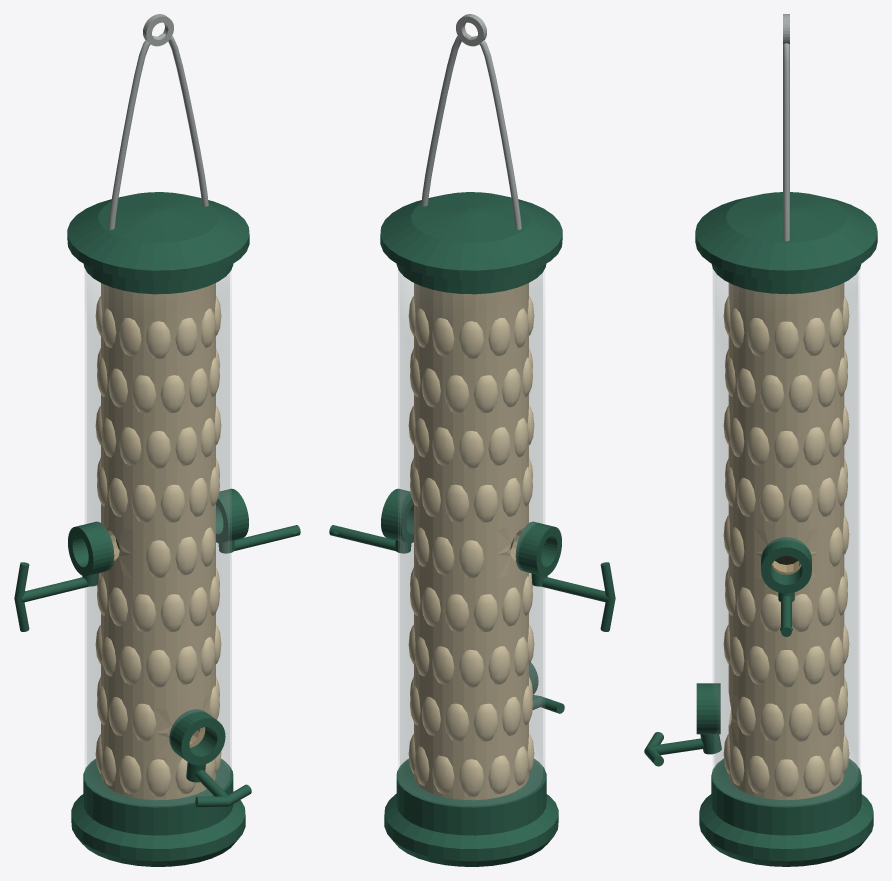
Rendered from A-NEW-20261026-CYLINDER-BIRD-FEEDER-001_LOD1_R4.fbx.
3 views of the same model, side by side, from view 1: azimuth 30°, elevation 25°; view 2: azimuth 150°, elevation 25°; view 3: azimuth 270°, elevation 25° (orthographic).
Visible parts, largest first — view 1: reservoir tube, simplified internal seed volume, domed top cap, lower green cup, front open feed collar, left open feed collar, right open feed collar, left bail leg, right bail leg, embedded seed 08 08, embedded seed 06 08, embedded seed 02 08 (+29 smaller); view 2: reservoir tube, simplified internal seed volume, domed top cap, lower green cup, left open feed collar, right open feed collar, left bail leg, right bail leg, embedded seed 08 04, embedded seed 06 04, embedded seed 02 04, embedded seed 04 04 (+30 smaller); view 3: reservoir tube, simplified internal seed volume, domed top cap, lower green cup, right open feed collar, right bail leg, front open feed collar, embedded seed 00 00, embedded seed 02 00, embedded seed 06 00, embedded seed 08 00, embedded seed 01 00 (+24 smaller).
Boxes of the visible parts, x1,y1,x2,y2 form: reservoir tube: (85,270,231,805); simplified internal seed volume: (101,283,215,800); domed top cap: (67,192,249,294); lower green cup: (71,759,245,866); front open feed collar: (169,709,225,765); left open feed collar: (68,521,114,576); right open feed collar: (216,488,248,543); left bail leg: (108,36,159,229); right bail leg: (158,33,208,206); embedded seed 08 08: (145,321,171,359); embedded seed 06 08: (145,431,171,468); embedded seed 02 08: (145,649,171,687); reservoir tube: (398,270,544,805); simplified internal seed volume: (414,283,528,800); domed top cap: (380,192,562,294); lower green cup: (384,759,558,866); left open feed collar: (515,521,561,576); right open feed collar: (381,488,413,543); left bail leg: (470,36,521,229); right bail leg: (421,33,471,206); embedded seed 08 04: (458,321,484,359); embedded seed 06 04: (458,431,484,468); embedded seed 02 04: (458,649,484,687); embedded seed 04 04: (458,540,484,578); reservoir tube: (713,270,859,805); simplified internal seed volume: (728,283,844,800); domed top cap: (695,192,877,294); lower green cup: (699,758,873,866); right open feed collar: (761,537,811,593); right bail leg: (783,43,789,241); front open feed collar: (696,683,720,734); embedded seed 00 00: (773,759,799,796); embedded seed 02 00: (773,650,799,687); embedded seed 06 00: (773,431,799,468); embedded seed 08 00: (773,321,799,358); embedded seed 01 00: (788,703,813,741).
Bounding box in the file's own units: 24.35 × 67.2 × 17.4.
